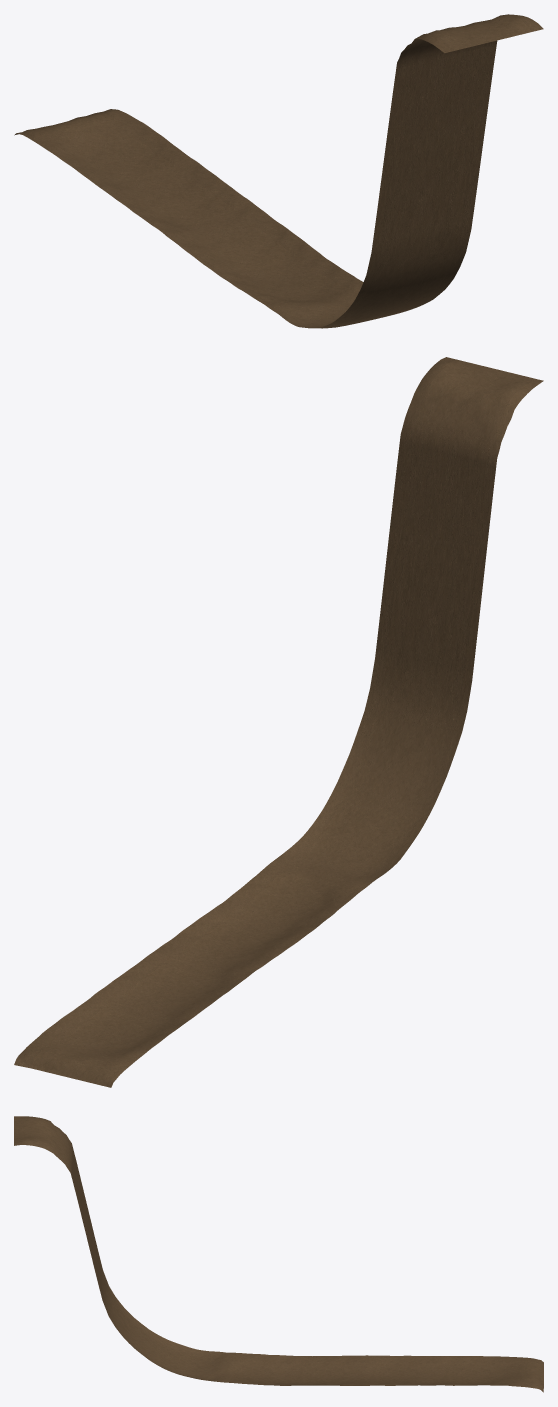
The model's file is sandFloor_jumpRoomConnector.fbx.
The picture shows the model from 3 angles, top to bottom: view 1: azimuth 30°, elevation 25°; view 2: azimuth 150°, elevation 25°; view 3: azimuth 270°, elevation 25°; orthographic projection. The views are drawn at different scales.
Visible parts, largest first — view 1: jumpRoomConnector.sandFloor; view 2: jumpRoomConnector.sandFloor; view 3: jumpRoomConnector.sandFloor.
Part boxes in pixels (left/top/right/bottom): jumpRoomConnector.sandFloor: left=14, top=14, right=543, bottom=328; jumpRoomConnector.sandFloor: left=14, top=357, right=543, bottom=1087; jumpRoomConnector.sandFloor: left=14, top=1116, right=543, bottom=1392.
Bounding box in the file's own units: 695 × 2589 × 5017.
